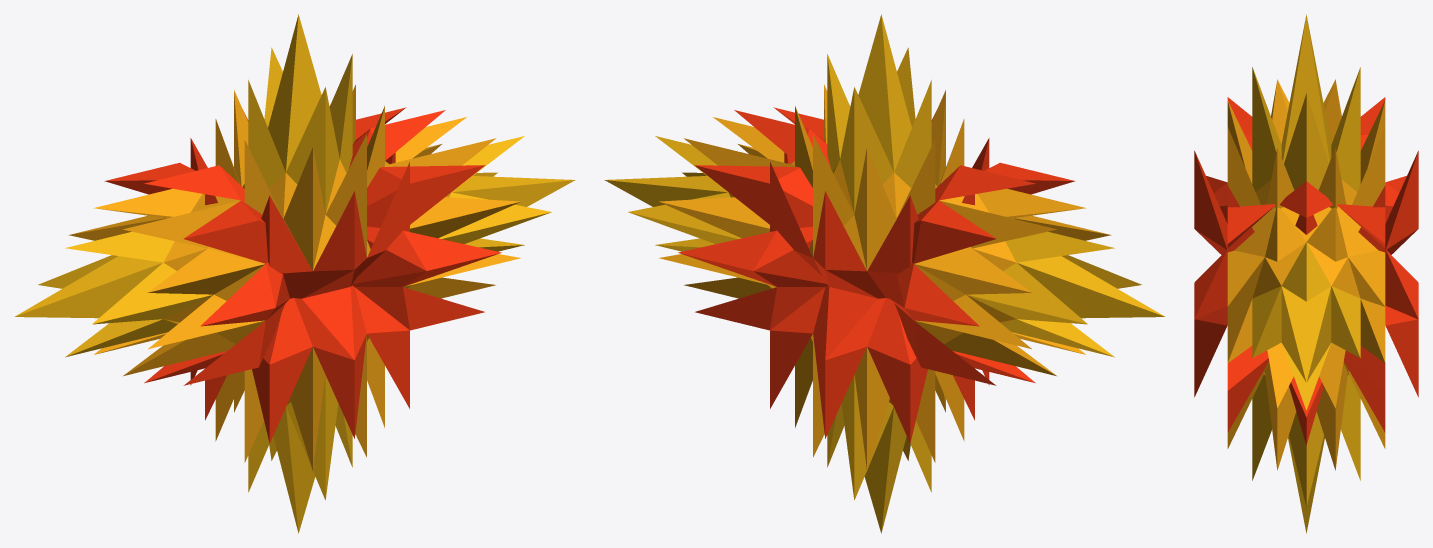
The model's file is gfx_164.obj.
3 renders of one model, left to right at view 1: azimuth 30°, elevation 25°; view 2: azimuth 150°, elevation 25°; view 3: azimuth 270°, elevation 25°, orthographic.
Size of the model in its own units: 1.22 by 1.08 by 0.4219.
